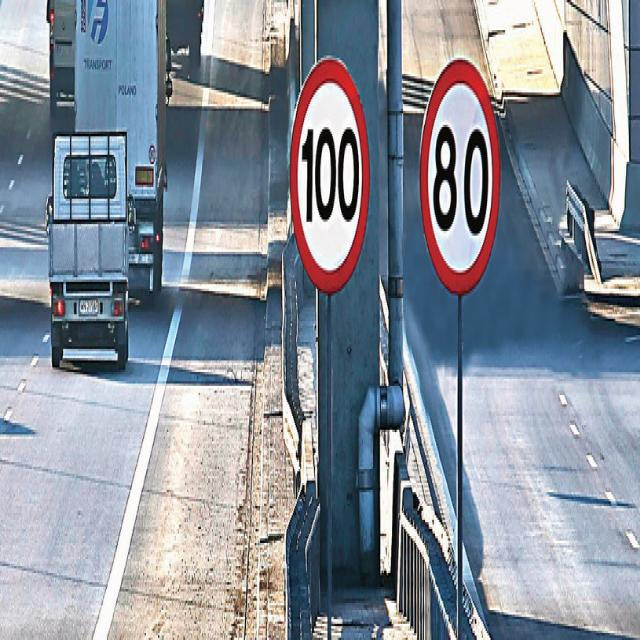Speed Limit -100-: (300, 125, 361, 233)
Speed Limit -80-: (434, 124, 490, 238)
